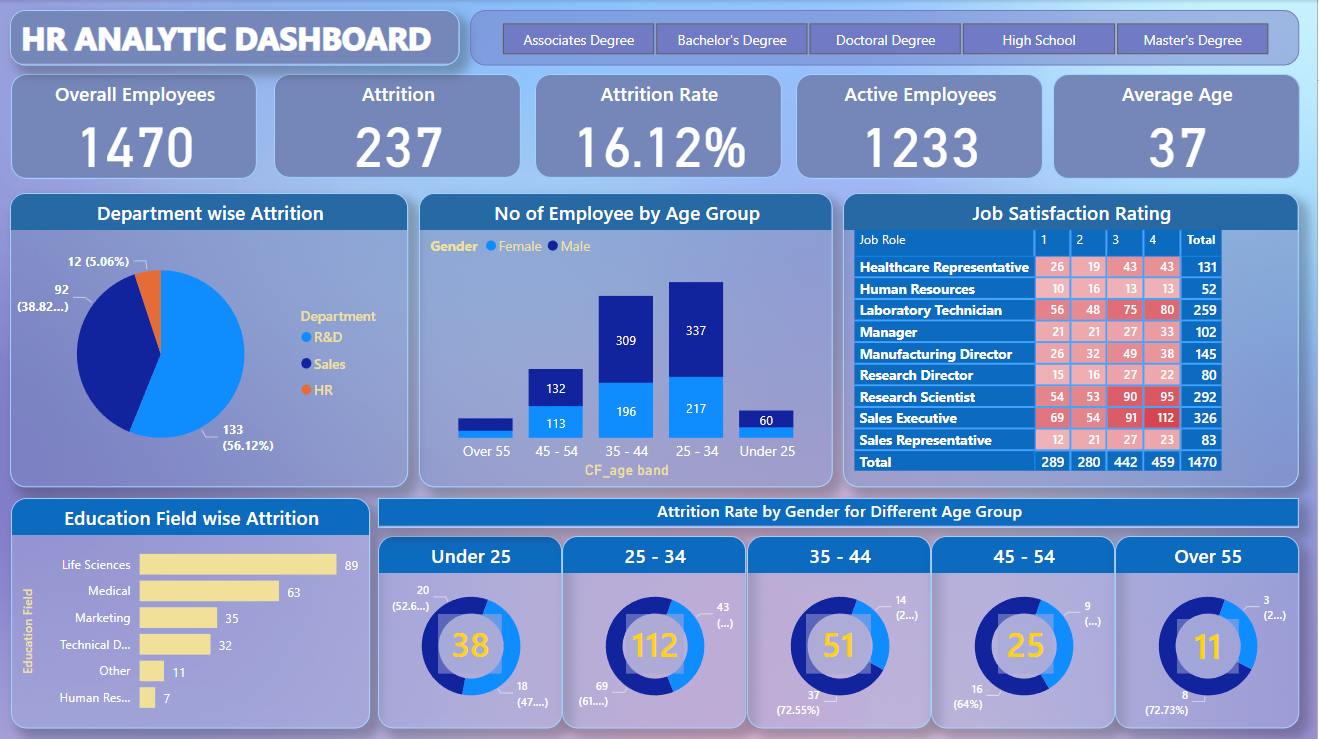

Layout of this report page (visuals, bound fields, positions):
{"tool":"powerbi","page":{"name":"HR","canvas":[1280,720],"ordinal":0},"visuals":[{"type":"card","title":"Overall Employees","fields":{"Values":["Sum(HR data.Employee Count)"]},"box":[10.7,71.9,239.1,102.1],"z":0},{"type":"card","title":"Attrition","fields":{"Values":["Sum(HR data.Attrition Count)"]},"box":[266.3,72.1,239.5,101.2],"z":1000},{"type":"card","title":"Attrition Rate","fields":{"Values":["HR data.Attrition Rate"]},"box":[519.8,72.1,239.5,101.2],"z":2000},{"type":"card","title":"Active Employees","fields":{"Values":["HR data.Active Employees"]},"box":[773.3,72.1,239.5,102.3],"z":3000},{"type":"card","title":"Average Age","fields":{"Values":["Avg(HR data.Age)"]},"box":[1023.3,72.1,239.5,102.3],"z":4000},{"type":"pieChart","title":"Department wise Attrition","fields":{"Y":["Sum(HR data.Attrition Count)"],"Category":["HR data.Department"]},"box":[9.3,187.2,387.2,286],"z":5000},{"type":"columnChart","title":"No of Employee by Age Group","fields":{"Category":["HR data.CF_age band"],"Series":["HR data.Gender"],"Y":["Sum(HR data.Employee Count)"]},"box":[407,187.2,402.3,286],"z":6000},{"type":"pivotTable","title":"Job Satisfaction Rating","fields":{"Values":["Sum(HR data.Employee Count)"],"Rows":["HR data.Job Role"],"Columns":["HR data.Job Satisfaction"]},"box":[819.8,187.2,443,286],"z":7000},{"type":"barChart","title":"Education Field wise Attrition","fields":{"Category":["HR data.Education Field"],"Y":["Sum(HR data.Attrition Count)"]},"box":[10.5,483.7,348.8,224.4],"z":8000},{"type":"donutChart","title":"Under 25","fields":{"Category":["HR data.Gender"],"Y":["Sum(HR data.Attrition Count)"],"Series":["HR data.CF_age band"]},"box":[367.4,520.9,179,187.2],"z":9000},{"type":"textbox","title":"Attrition Rate by Gender for Different Age Group","box":[367.4,483.7,895.3,29.1],"z":10000},{"type":"donutChart","title":"25 - 34","fields":{"Category":["HR data.Gender"],"Y":["Sum(HR data.Attrition Count)"],"Series":["HR data.CF_age band"]},"box":[546.5,520.9,179.1,187.2],"z":11000},{"type":"donutChart","title":"35 - 44","fields":{"Category":["HR data.Gender"],"Y":["Sum(HR data.Attrition Count)"],"Series":["HR data.CF_age band"]},"box":[725.6,520.9,179.1,187.2],"z":12000},{"type":"donutChart","title":"45 - 54","fields":{"Category":["HR data.Gender"],"Y":["Sum(HR data.Attrition Count)"],"Series":["HR data.CF_age band"]},"box":[904.7,520.9,179.1,187.2],"z":13000},{"type":"donutChart","title":"Over 55","fields":{"Category":["HR data.Gender"],"Y":["Sum(HR data.Attrition Count)"],"Series":["HR data.CF_age band"]},"box":[1083.7,520.9,179.1,187.2],"z":14000},{"type":"card","fields":{"Values":["Sum(HR data.Attrition Count)"]},"box":[425.6,596.5,61.6,58.1],"z":15000},{"type":"card","fields":{"Values":["Sum(HR data.Attrition Count)"]},"box":[608.2,596.9,55.7,57.7],"z":16000},{"type":"card","fields":{"Values":["Sum(HR data.Attrition Count)"]},"box":[783.7,596.5,62.8,58.1],"z":17000},{"type":"card","fields":{"Values":["Sum(HR data.Attrition Count)"]},"box":[970.1,596.9,53.6,57.7],"z":18000},{"type":"card","fields":{"Values":["Sum(HR data.Attrition Count)"]},"box":[1144.3,602.1,59.8,52.6],"z":19000},{"type":"textbox","title":"HR ANALYTIC DASHBOARD","box":[9.7,9.7,437.4,54.4],"z":20000},{"type":"slicer","fields":{"Values":["HR data.Education"]},"box":[456.8,9.7,805.7,54.4],"z":20001}]}

Visuals, with their boxes in screenshot pixels (x1, y1, x2, y2), scaled from the page's 1280x720 canvas onto the 1319x739 screenshot:
"Overall Employees" card: BBox(11, 74, 257, 179)
"Attrition" card: BBox(274, 74, 521, 178)
"Attrition Rate" card: BBox(536, 74, 782, 178)
"Active Employees" card: BBox(797, 74, 1044, 179)
"Average Age" card: BBox(1054, 74, 1301, 179)
"Department wise Attrition" pieChart: BBox(10, 192, 409, 486)
"No of Employee by Age Group" columnChart: BBox(419, 192, 834, 486)
"Job Satisfaction Rating" pivotTable: BBox(845, 192, 1301, 486)
"Education Field wise Attrition" barChart: BBox(11, 496, 370, 727)
"Under 25" donutChart: BBox(379, 535, 563, 727)
"Attrition Rate by Gender for Different Age Group" textbox: BBox(379, 496, 1301, 526)
"25 - 34" donutChart: BBox(563, 535, 748, 727)
"35 - 44" donutChart: BBox(748, 535, 932, 727)
"45 - 54" donutChart: BBox(932, 535, 1117, 727)
"Over 55" donutChart: BBox(1117, 535, 1301, 727)
card - Sum(HR data.Attrition Count): BBox(439, 612, 502, 672)
card - Sum(HR data.Attrition Count): BBox(627, 613, 684, 672)
card - Sum(HR data.Attrition Count): BBox(808, 612, 872, 672)
card - Sum(HR data.Attrition Count): BBox(1000, 613, 1055, 672)
card - Sum(HR data.Attrition Count): BBox(1179, 618, 1241, 672)
"HR ANALYTIC DASHBOARD" textbox: BBox(10, 10, 461, 66)
slicer - HR data.Education: BBox(471, 10, 1301, 66)
